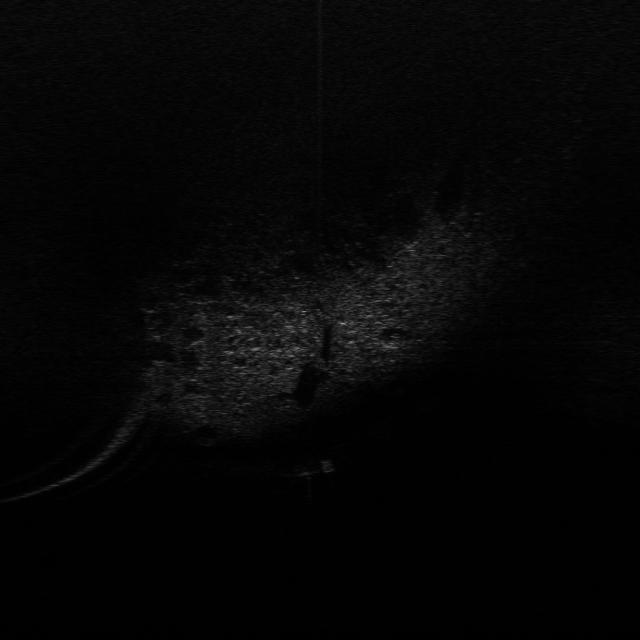cube: (290, 462, 320, 480)
cylinder: (316, 455, 336, 476)
